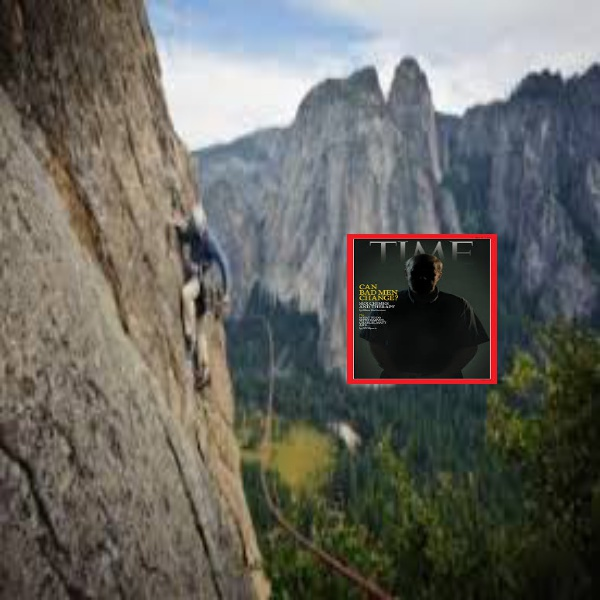time_cover: (344, 227, 500, 386)
